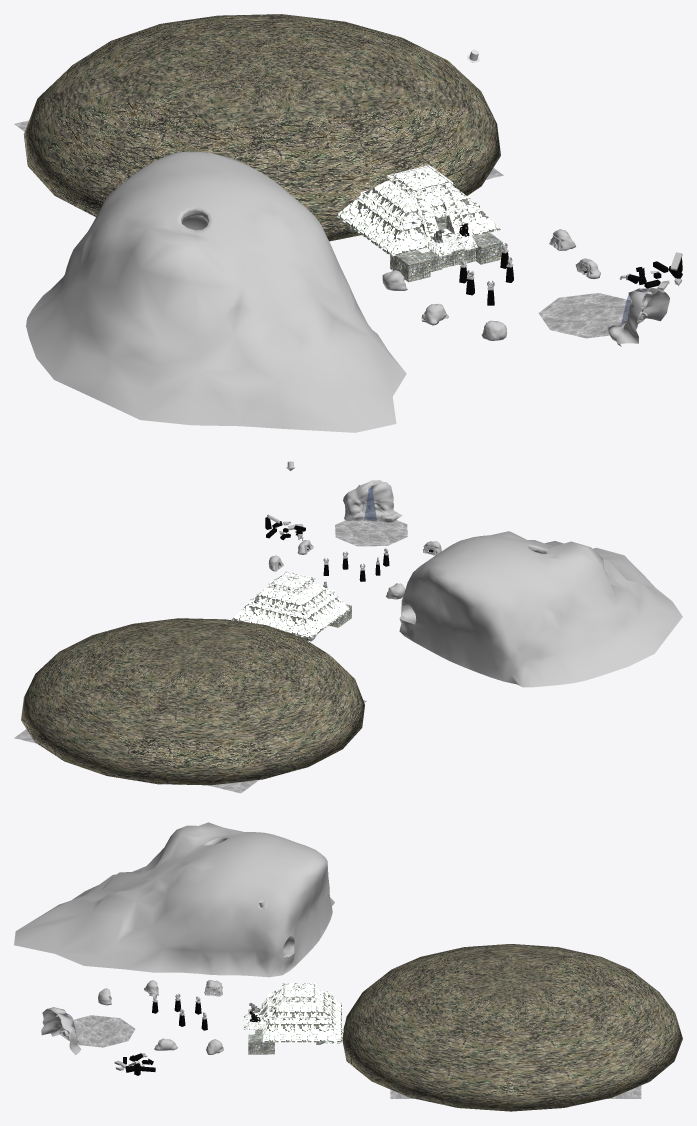
The model's file is Structures.FBX.
3 views of the same model, one above another, from view 1: azimuth 30°, elevation 25°; view 2: azimuth 150°, elevation 25°; view 3: azimuth 270°, elevation 25° (orthographic). The views are drawn at different scales.
Visible parts, largest first — view 1: Dome, Cavern, Temple Outside, Water Hole, Temple of Tizzleblat, Shrine Water, RuinStones; view 2: Cavern, Dome, Temple Outside, Shrine Water, Water Hole, RuinStones; view 3: Cavern, Dome, Temple Outside, Water Hole, Shrine Water, Temple of Tizzleblat, RuinStones.
Part boxes in pixels (x1,y1,x2,y2): Dome: (26,151,406,432); Cavern: (23,14,500,241); Temple Outside: (335,165,500,256); Water Hole: (539,293,645,338); Temple of Tizzleblat: (349,173,502,282); Shrine Water: (608,288,669,346); RuinStones: (619,252,682,290); Cavern: (21,618,364,785); Dome: (399,531,682,687); Temple Outside: (231,571,350,638); Shrine Water: (343,480,402,522); Water Hole: (335,517,407,546); RuinStones: (265,514,305,540); Cavern: (342,944,682,1111); Dome: (14,822,334,977); Temple Outside: (243,983,341,1042); Water Hole: (59,1015,134,1047); Shrine Water: (41,1007,81,1054); Temple of Tizzleblat: (248,986,343,1054); RuinStones: (114,1053,155,1075).
Bounding box in the file's own units: 742 × 949 × 251.
